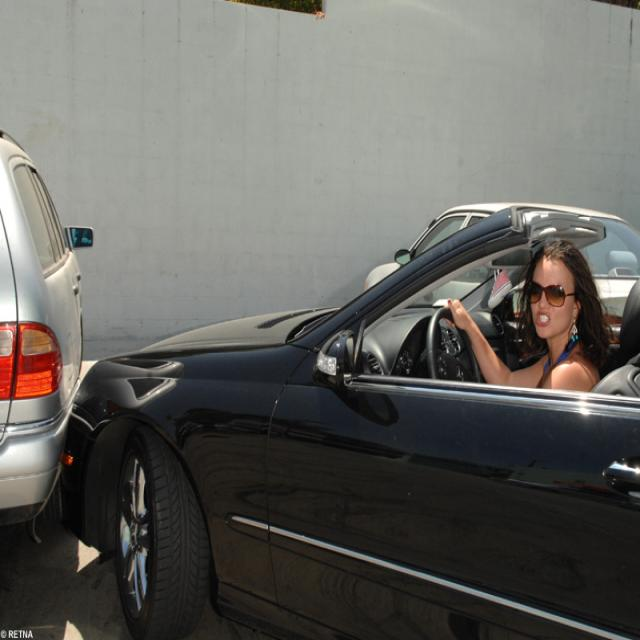misalignment: (127, 347, 233, 359)
